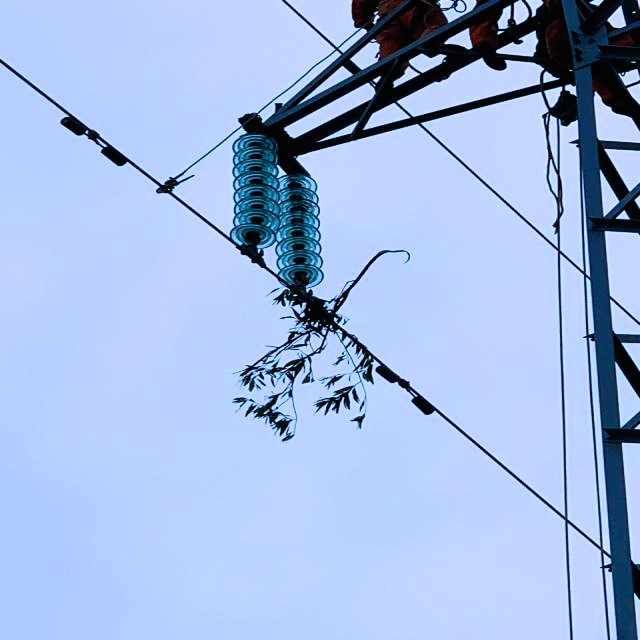wire foreign body: (233, 275, 382, 441)
